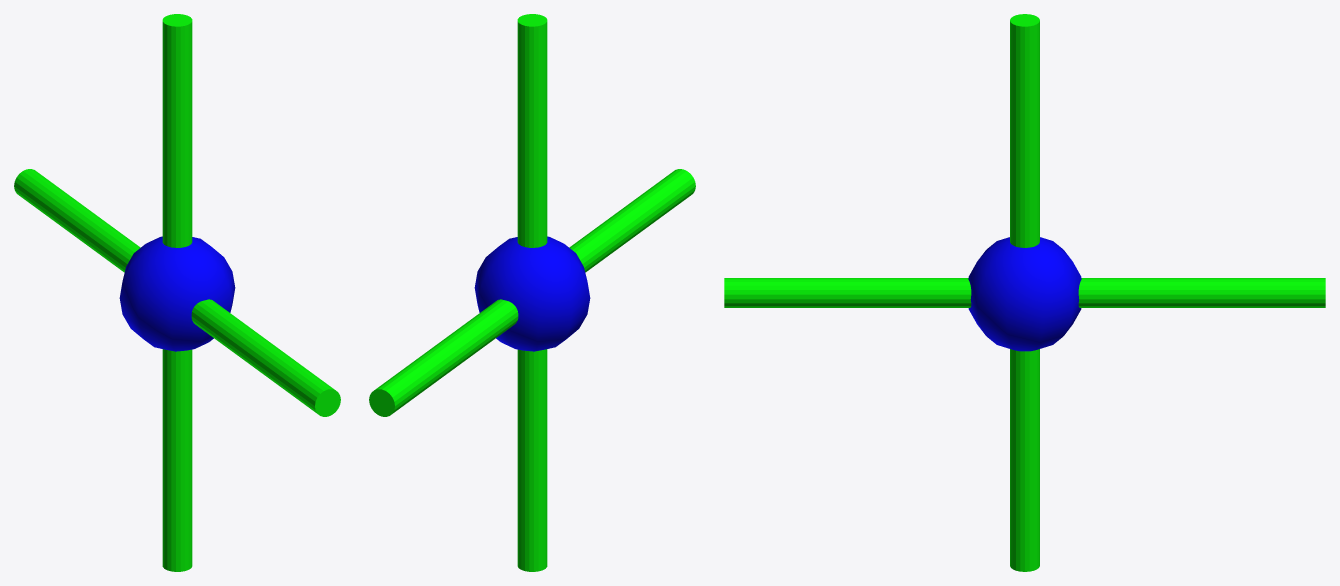
The model's file is windmill.fbx.
The picture shows the model from 3 angles, left to right: view 1: azimuth 30°, elevation 25°; view 2: azimuth 150°, elevation 25°; view 3: azimuth 270°, elevation 25°; orthographic projection.
Parts seen in each view (by area): view 1: windmill; view 2: windmill; view 3: windmill.
Boxes of the visible parts, x1,y1,x2,y2 form: windmill: (14,14,340,571); windmill: (369,14,695,571); windmill: (724,14,1325,571).
Size of the model in its own units: 187 by 1000 by 1000.
